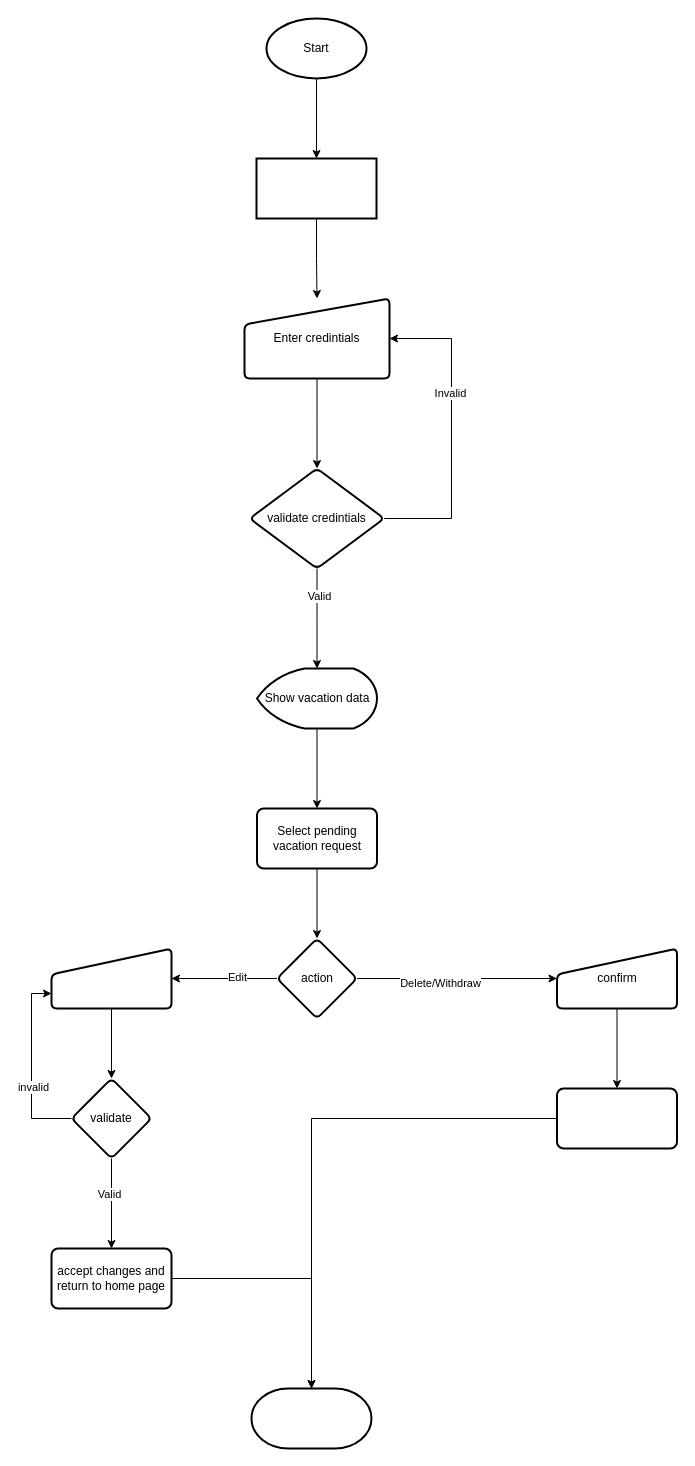
The diagram is 695 pixels wide and 1466 high, and some of its shapes have lost their labels. The box of each missing label's shape, as (x1, y1, x2, y2) in pixels:
end: (250, 1387, 372, 1449)
enter new data: (50, 947, 172, 1009)
VTS authentication: (255, 157, 377, 219)
Withdraw: (556, 1087, 678, 1149)
